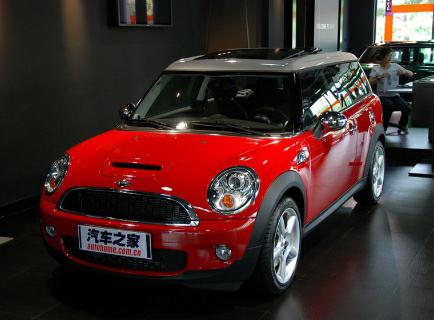MINI CLUBMAN: (40, 38, 394, 294)
